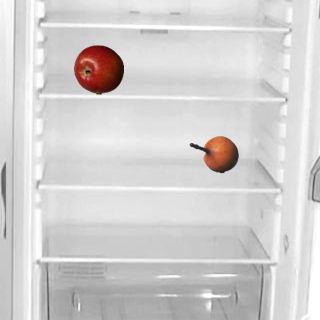Apple Braeburn: (73, 44, 123, 94)
Granadilla: (188, 129, 238, 179)
